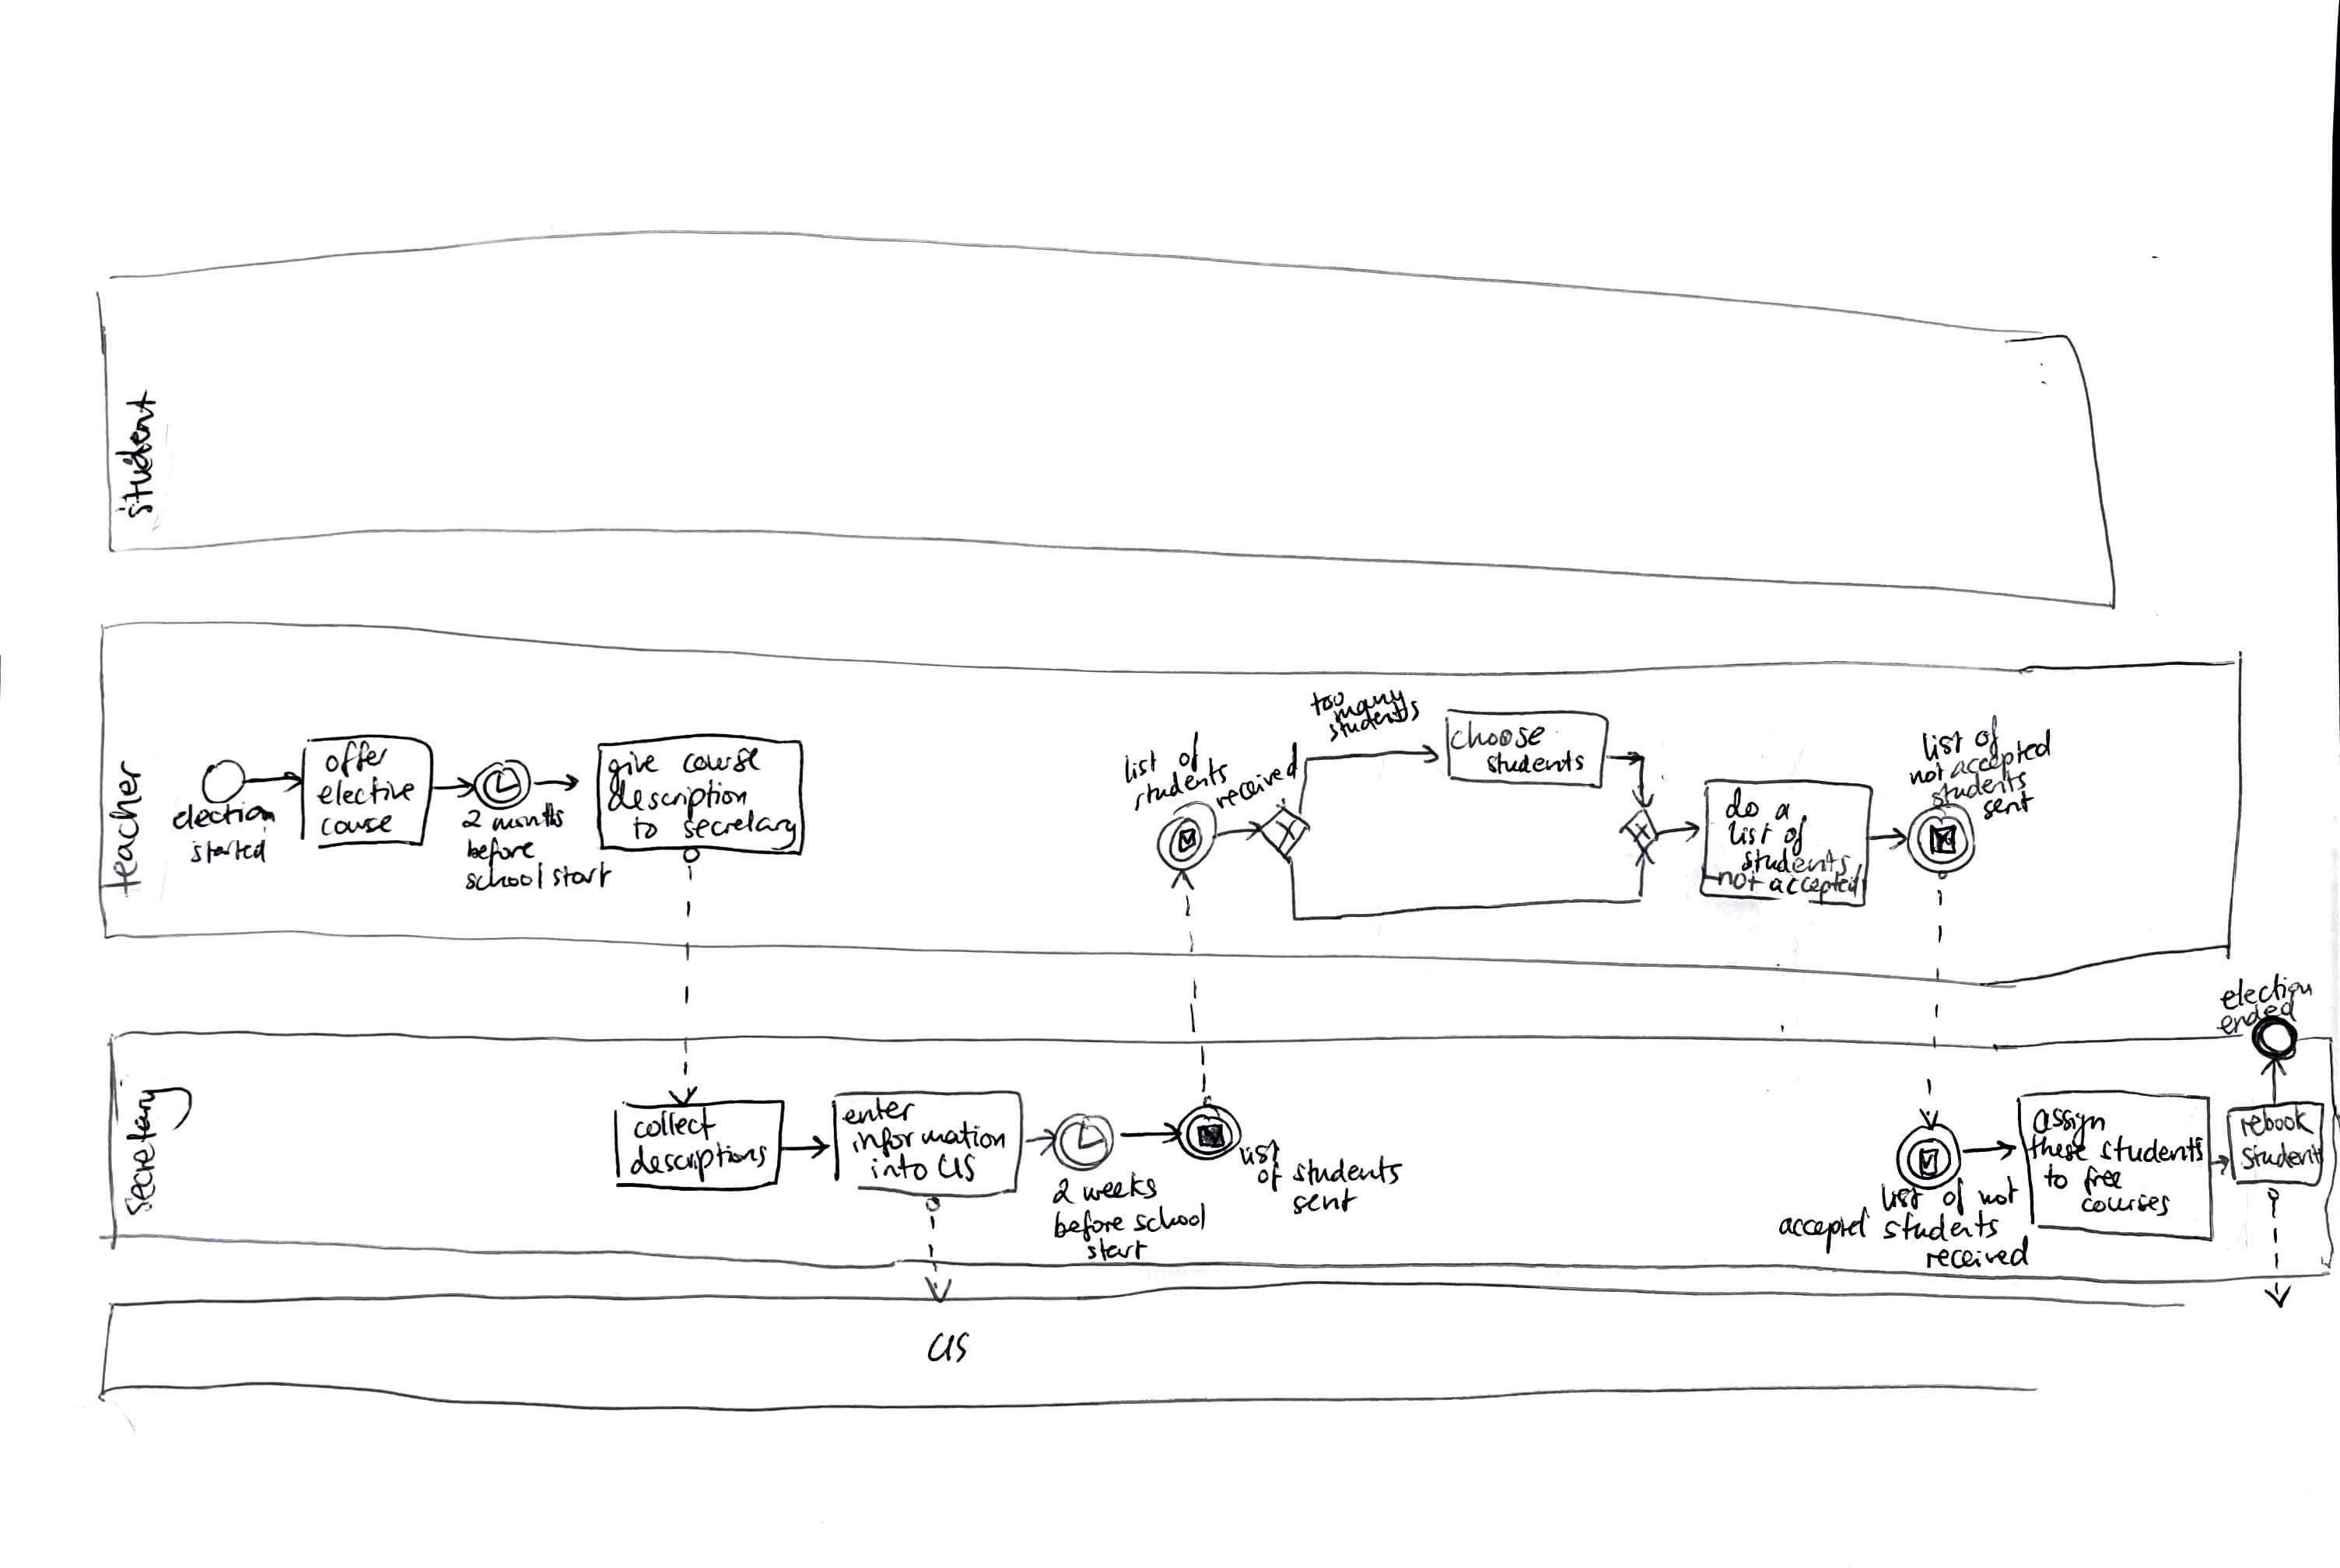2: (1051, 1175, 1074, 1208), (459, 807, 485, 831)
List: (1725, 821, 1774, 846)
US: (937, 1154, 977, 1181)
a: (1776, 799, 1793, 824)
accepted: (1778, 1212, 1880, 1251), (1944, 754, 2055, 792), (1767, 873, 1861, 896)
as: (920, 1328, 973, 1361)
assign: (2032, 1105, 2107, 1141)
before: (1050, 1207, 1124, 1242), (464, 835, 535, 866)
choose: (1449, 719, 1554, 752)
collect: (636, 1111, 716, 1141)
course: (680, 749, 762, 776), (318, 814, 398, 838)
courses: (2080, 1194, 2171, 1216)
description: (607, 778, 750, 820)
descriptions: (631, 1140, 771, 1181)
do: (1722, 787, 1762, 821)
election: (170, 806, 277, 833), (2219, 981, 2312, 1010)
elective: (317, 775, 418, 809)
ended: (2216, 1008, 2300, 1033)
enter: (843, 1099, 915, 1128)
free: (2079, 1164, 2121, 1193)
give: (605, 750, 661, 794)
information: (849, 1126, 1007, 1154)
into: (868, 1156, 930, 1182)
list: (1918, 729, 1964, 765), (1877, 1182, 1925, 1214), (1111, 762, 1158, 794), (1235, 1138, 1283, 1167)
many: (1328, 706, 1406, 730)
months: (489, 806, 566, 835)
not: (1978, 1175, 2020, 1209), (1717, 870, 1764, 894), (1906, 765, 1949, 789)
of: (1782, 813, 1809, 856), (1976, 716, 2003, 757), (1939, 1179, 1972, 1213), (1177, 730, 1202, 772), (1256, 1163, 1291, 1191)
offer: (318, 746, 388, 782)
rebook: (2236, 1109, 2312, 1138)
received: (1205, 781, 1308, 818), (1923, 1245, 2030, 1271)
school: (462, 862, 547, 893), (1131, 1204, 1214, 1235)
secretary: (121, 1082, 193, 1219), (681, 809, 801, 841)
sent: (1290, 1188, 1356, 1216), (1978, 798, 2035, 821)
start: (548, 860, 611, 891), (1084, 1238, 1148, 1265)
started: (189, 835, 271, 865)
student: (111, 389, 159, 519), (2240, 1142, 2322, 1173)
students: (1883, 1212, 2000, 1242), (1290, 1157, 1403, 1188), (2097, 1135, 2205, 1165), (1126, 786, 1228, 816), (1484, 750, 1589, 776), (1928, 782, 2028, 810), (1740, 850, 1851, 875), (1322, 723, 1421, 747)
teacher: (100, 761, 143, 898)
these: (2027, 1134, 2092, 1164)
to: (631, 815, 660, 845), (2042, 1164, 2075, 1192)
too: (1303, 695, 1344, 720)
weeks: (1079, 1171, 1159, 1207)
